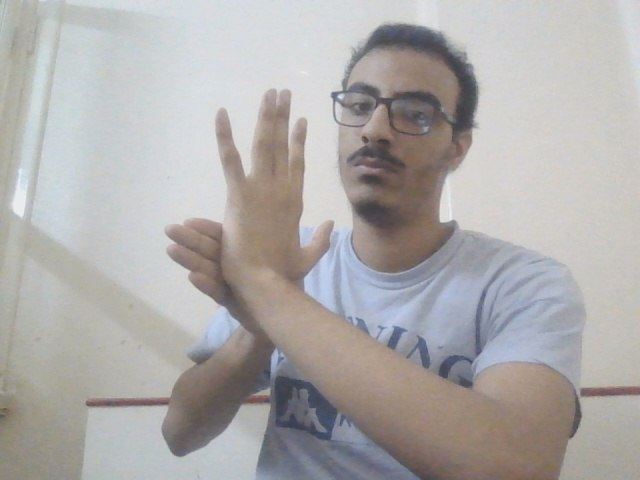Movie: (157, 83, 340, 331)
